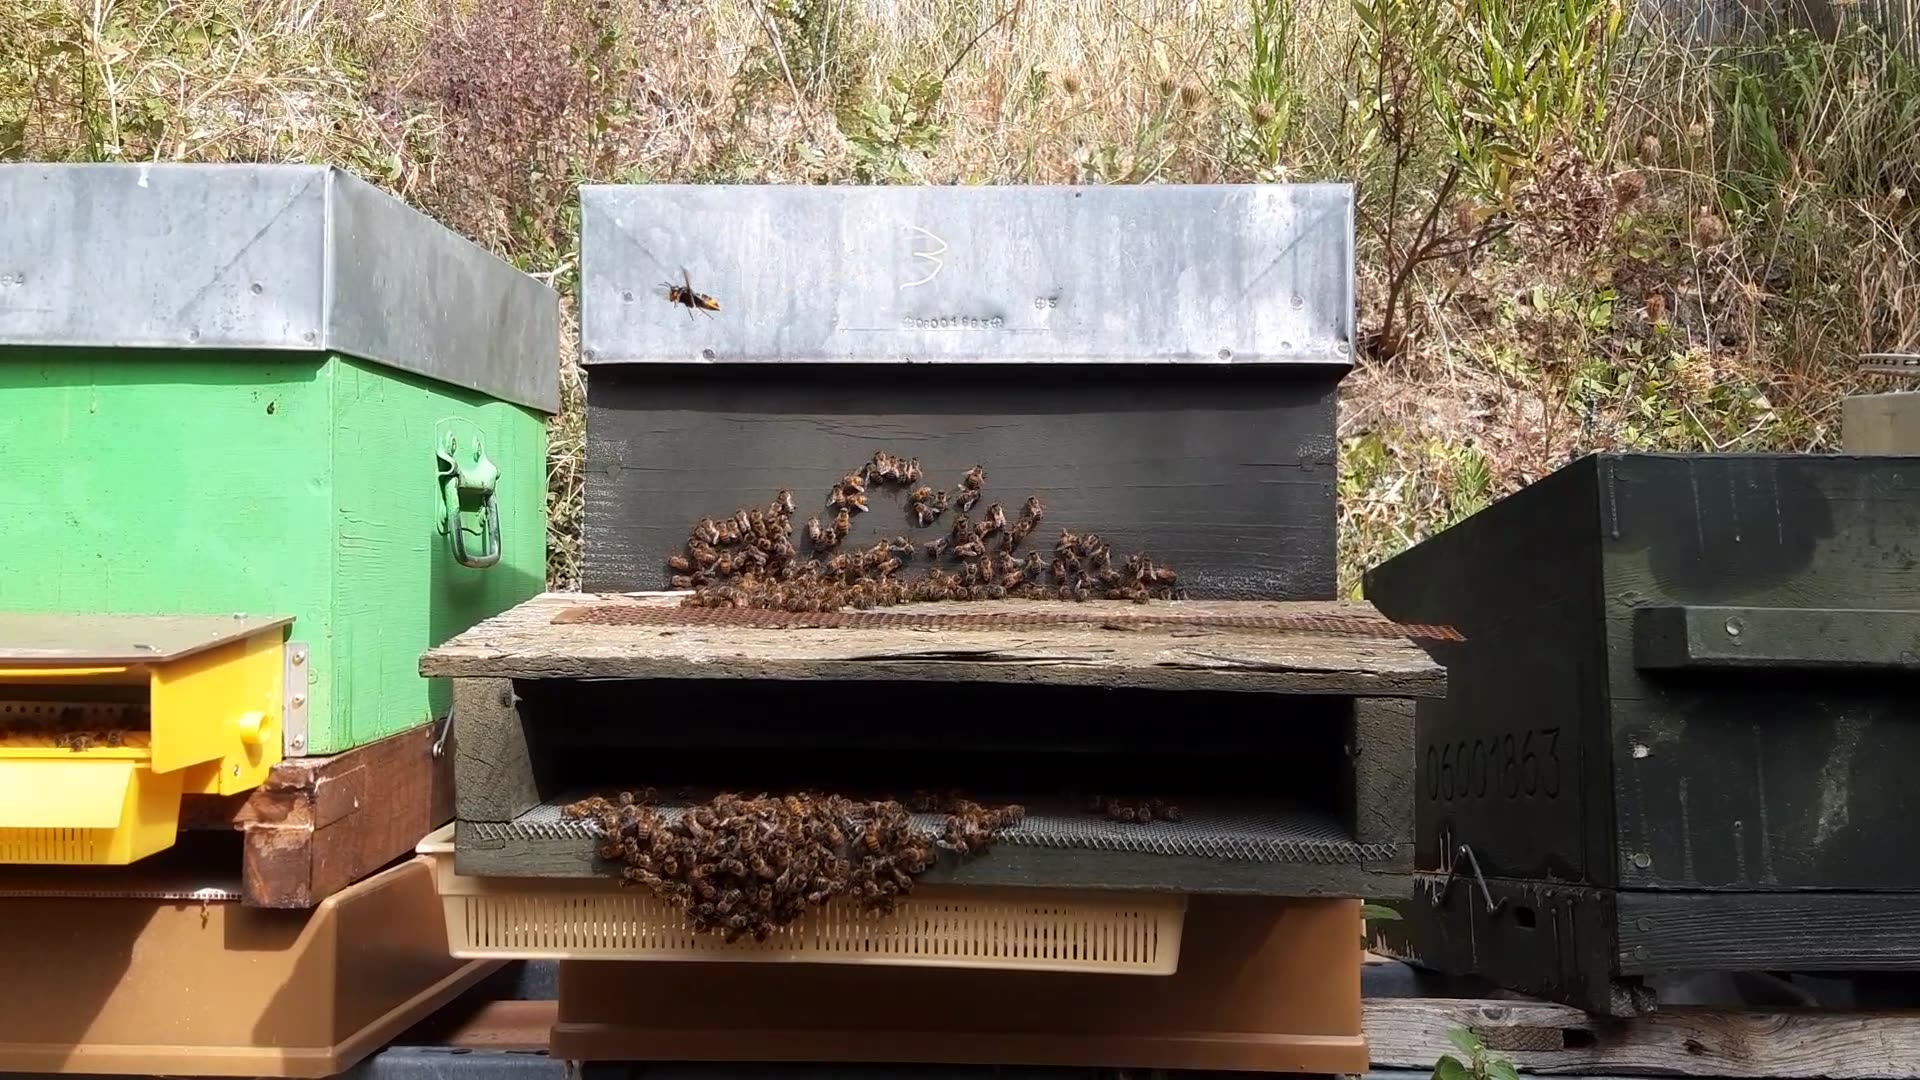bee: (920, 798, 1025, 855), (843, 880, 916, 949), (651, 870, 721, 938), (1345, 320, 1408, 389), (945, 533, 1015, 592), (571, 793, 661, 839), (851, 462, 919, 521), (732, 510, 796, 567), (715, 783, 802, 824), (1093, 556, 1175, 599), (811, 543, 876, 596), (735, 553, 808, 593), (961, 473, 1015, 527), (1052, 535, 1112, 576), (574, 363, 615, 415), (665, 276, 712, 316)
